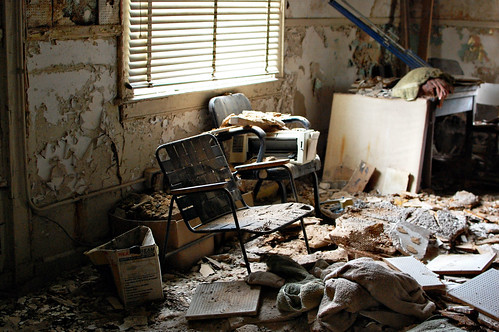chair: (165, 137, 313, 285)
trash: (1, 66, 499, 332)
